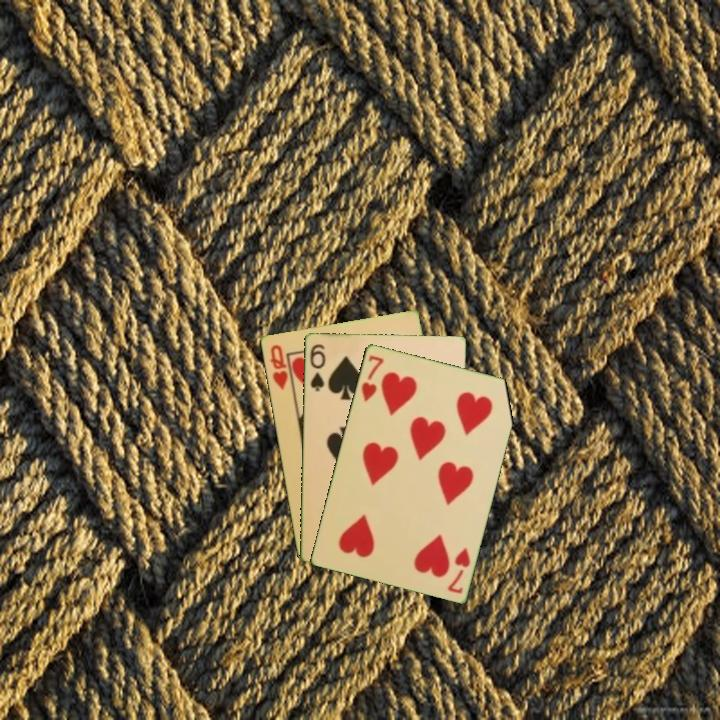6s: (306, 340, 328, 393)
7h: (444, 543, 473, 596), (358, 352, 386, 404)
Qh: (266, 341, 295, 393)
